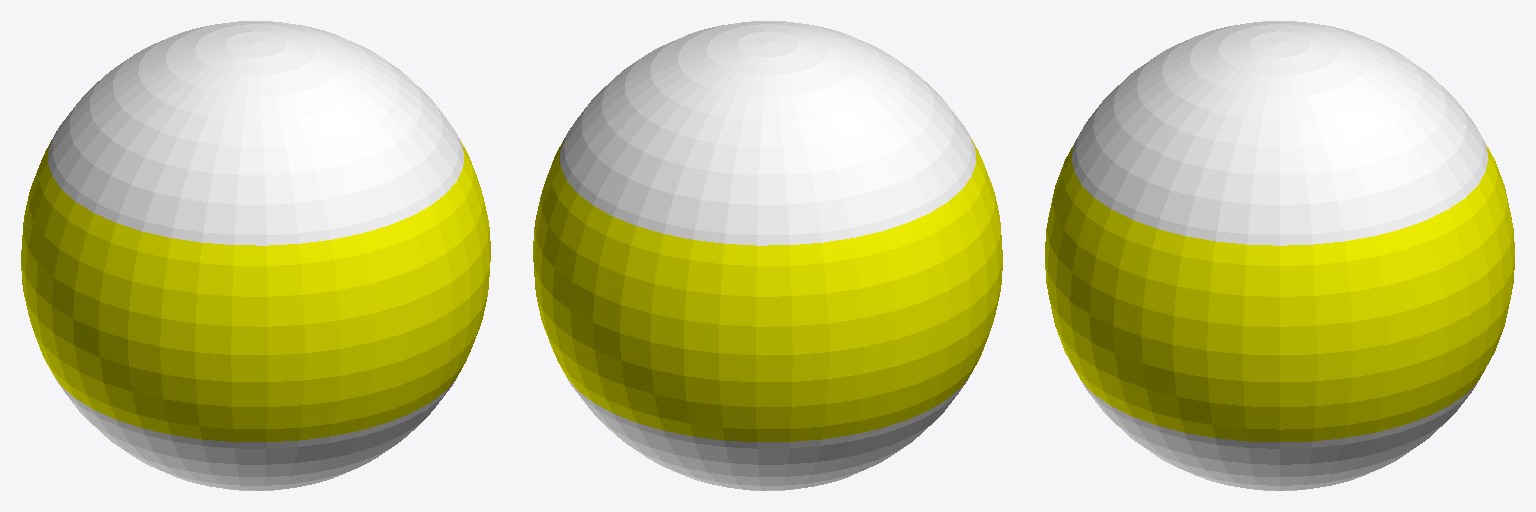
3 renders of one model, left to right at view 1: azimuth 30°, elevation 25°; view 2: azimuth 150°, elevation 25°; view 3: azimuth 270°, elevation 25°, orthographic.
Parts seen in each view (by area): view 1: 球_球.001; view 2: 球_球.001; view 3: 球_球.001.
Part boxes in pixels (bbox=[...]): 球_球.001: bbox=[21, 21, 490, 490]; 球_球.001: bbox=[533, 21, 1002, 490]; 球_球.001: bbox=[1045, 21, 1514, 490].
Bounding box in the file's own units: 2 × 2 × 2.
1 materials, 1 textured.